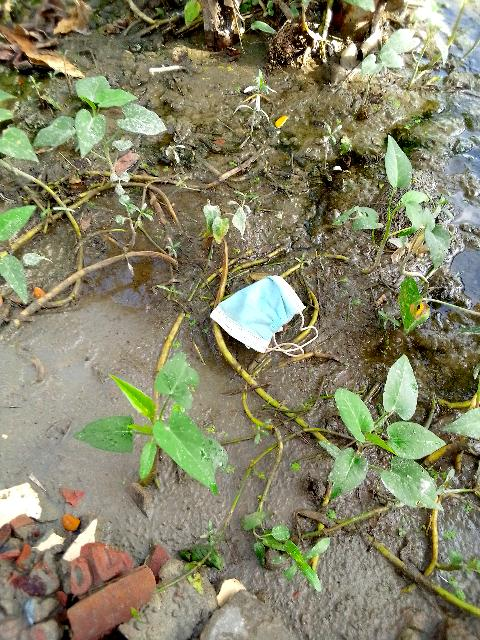mask: (216, 277, 311, 347)
